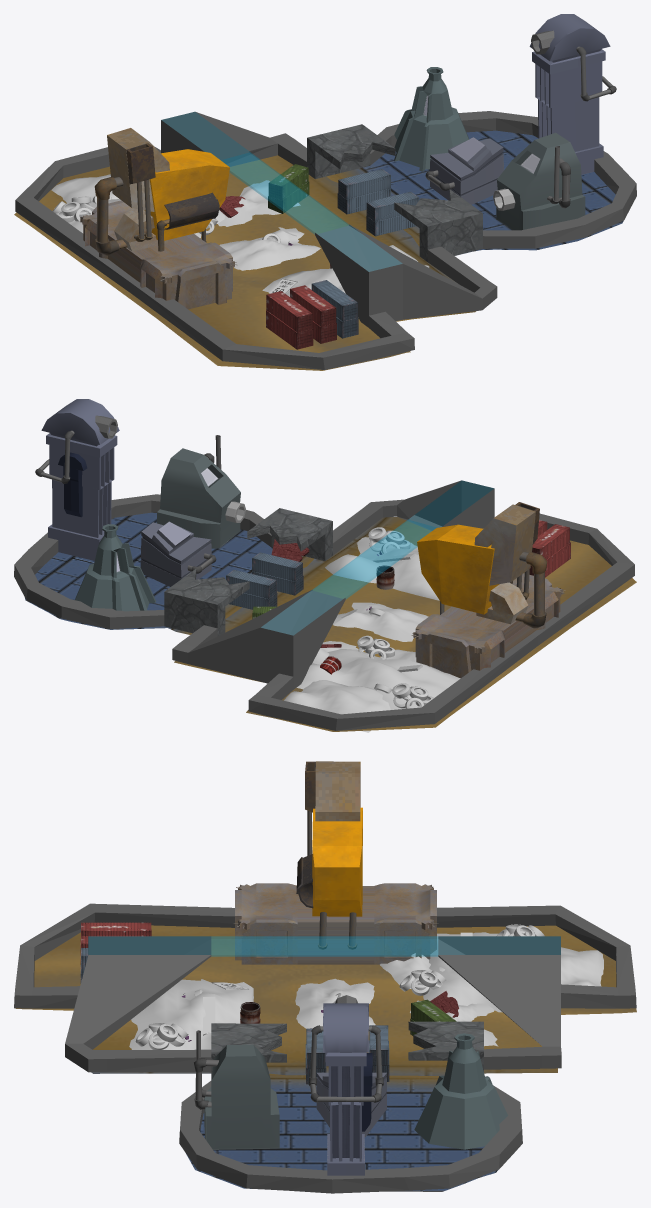
Rendered from Final_Map(NEW).fbx.
3 views of the same model, one above another, from view 1: azimuth 30°, elevation 25°; view 2: azimuth 150°, elevation 25°; view 3: azimuth 270°, elevation 25° (orthographic). The views are drawn at different scales.
Visible parts, largest first — view 1: MapBorder, Ground, EnemyTower, SkyScrapper, EnemyTower_Bottom, energyBridge, Building_Right, TempleLeft, Middle_Building, polySurface523, brokenBridge1, sand2 (+10 smaller); view 2: MapBorder, Ground, EnemyTower, SkyScrapper, energyBridge, EnemyTower_Bottom, Building_Right, junkpile2, TempleLeft, Middle_Building, brokenBridge1, JunkPile1 (+10 smaller); view 3: MapBorder, Ground, EnemyTower_Bottom, EnemyTower, energyBridge, SkyScrapper, Building_Right, TempleLeft, JunkPile1, brokenBridge1, polySurface523, sand2 (+11 smaller).
Part boxes in pixels (box(x1,y1,x2,y2)): MapBorder: box(15, 111, 636, 369); Ground: box(14, 130, 623, 370); EnemyTower: box(94, 128, 229, 255); SkyScrapper: box(529, 14, 616, 174); EnemyTower_Bottom: box(80, 200, 236, 309); energyBridge: box(162, 112, 401, 271); Building_Right: box(493, 132, 585, 230); TempleLeft: box(394, 67, 469, 171); Middle_Building: box(425, 137, 503, 204); polySurface523: box(394, 189, 482, 261); brokenBridge1: box(307, 124, 395, 178); sand2: box(219, 228, 320, 270); MapBorder: box(14, 480, 634, 730); Ground: box(25, 512, 636, 731); EnemyTower: box(417, 502, 547, 628); SkyScrapper: box(35, 399, 119, 560); energyBridge: box(261, 481, 493, 634); EnemyTower_Bottom: box(411, 573, 565, 678); Building_Right: box(157, 435, 245, 548); junkpile2: box(296, 649, 460, 709); TempleLeft: box(75, 524, 155, 611); Middle_Building: box(140, 521, 216, 586); brokenBridge1: box(164, 569, 249, 635); JunkPile1: box(325, 537, 439, 600); MapBorder: box(14, 903, 636, 1193); Ground: box(15, 925, 636, 1191); EnemyTower_Bottom: box(233, 883, 438, 964); EnemyTower: box(296, 761, 362, 949); energyBridge: box(89, 936, 560, 956); SkyScrapper: box(308, 995, 383, 1175); Building_Right: box(194, 1030, 279, 1149); TempleLeft: box(414, 1033, 507, 1149); JunkPile1: box(129, 979, 253, 1049); brokenBridge1: box(408, 1021, 483, 1071); polySurface523: box(211, 1023, 286, 1079); sand2: box(295, 978, 375, 1028).
Bounding box in the file's own units: 9837 × 2825 × 9107.
